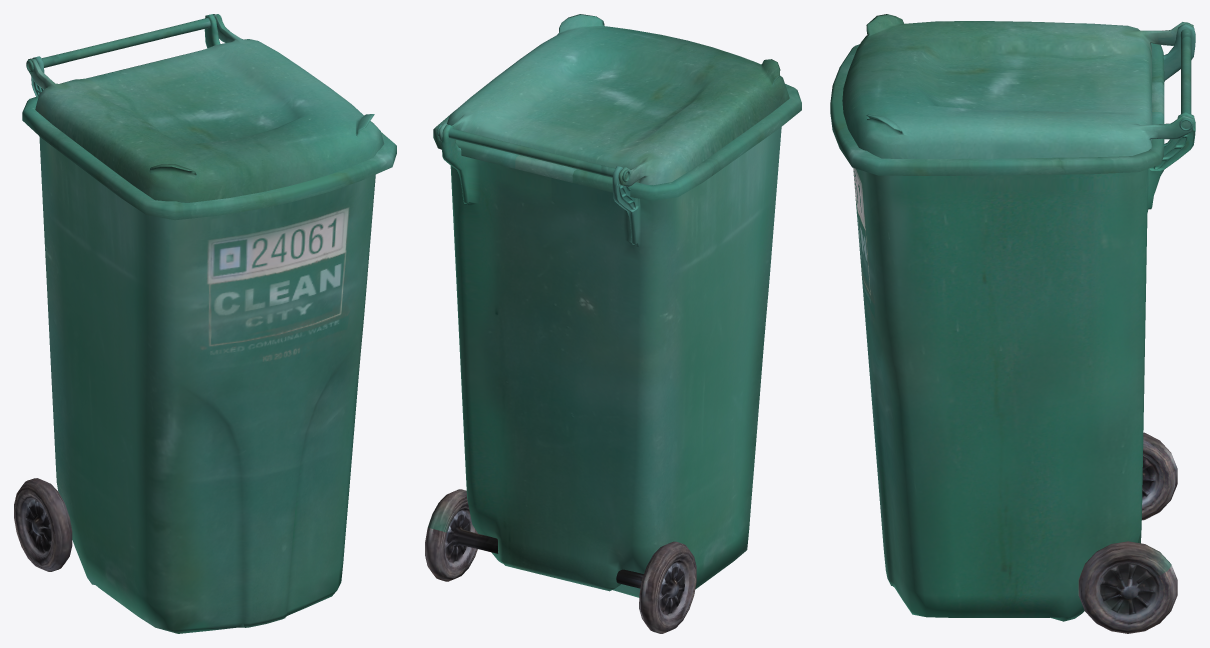
File: TrashCan.FBX
The picture shows the model from 3 angles, left to right: view 1: azimuth 30°, elevation 25°; view 2: azimuth 150°, elevation 25°; view 3: azimuth 270°, elevation 25°; orthographic projection. The views are drawn at different scales.
Visible parts, largest first — view 1: TrashCan; view 2: TrashCan; view 3: TrashCan.
Boxes of the visible parts, x1,y1,x2,y2 form: TrashCan: (14, 14, 396, 633); TrashCan: (425, 14, 801, 633); TrashCan: (830, 14, 1195, 633).
Size of the model in its own units: 67.23 by 123 by 79.59.
1 material, 1 textured.
